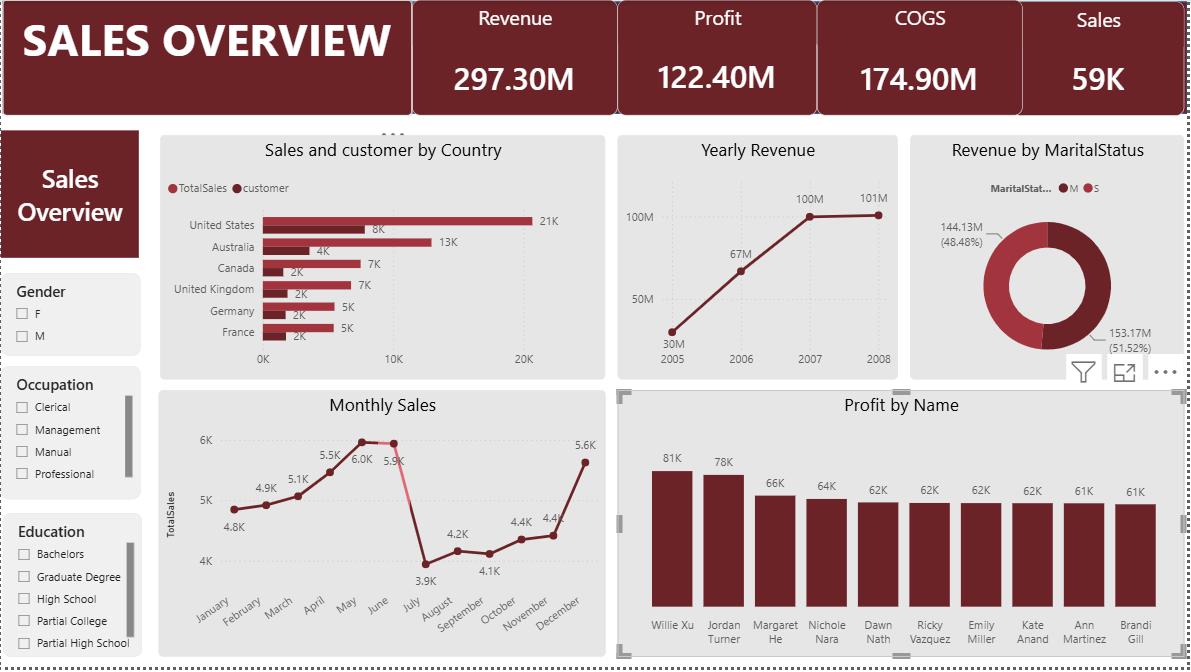

What the dashboard file says about the page in this screenshot:
{"tool":"powerbi","page":{"name":" Sales Analysis","canvas":[1280,720],"ordinal":1},"visuals":[{"type":"shape","box":[1.6,1.6,1279.2,121.4],"z":0},{"type":"cardVisual","title":"Sales","fields":{"Data":["SalesTable.TotalSales"]},"box":[1091.4,1.6,186.2,123.1],"z":1000},{"type":"cardVisual","title":"COGS","fields":{"Data":["SalesTable.TotalCostofGoods"]},"box":[880.9,0,221.8,124.7],"z":2000},{"type":"cardVisual","title":"Revenue","fields":{"Data":["SalesTable.TotalRevenue"]},"box":[443.7,0,221.8,124.7],"z":3000},{"type":"cardVisual","title":"Profit","fields":{"Data":["SalesTable.Profit"]},"box":[665.5,0,215.4,124.7],"z":4000},{"type":"textbox","box":[1.6,0,442,124.7],"z":5000},{"type":"slicer","fields":{"Values":["Customer.Gender"]},"box":[0,294.7,150.6,89.1],"z":6000},{"type":"slicer","fields":{"Values":["Customer.Occupation"]},"box":[0,395.1,150.6,144.1],"z":7000},{"type":"slicer","fields":{"Values":["Customer.Education"]},"box":[1.6,553.8,150.6,155.4],"z":8000},{"type":"actionButton","box":[0,140.9,149,137.6],"z":9000},{"type":"clusteredBarChart","title":"Sales and customer by Country","fields":{"Category":["Territory.SalesTerritoryCountry"],"Y":["SalesTable.TotalSales","SalesTable.customer"]},"box":[171.6,145.7,480.9,263.9],"z":10000},{"type":"lineChart","title":"Monthly Sales","fields":{"Category":["SalesTable.OrderDate.Variation.Date Hierarchy.Month"],"Y":["SalesTable.TotalSales"]},"box":[170,421,482.5,288.2],"z":11000},{"type":"lineChart","title":" Yearly Revenue","fields":{"Category":["SalesTable.OrderDate.Variation.Date Hierarchy.Year","SalesTable.OrderDate.Variation.Date Hierarchy.Quarter","SalesTable.OrderDate.Variation.Date Hierarchy.Month","SalesTable.OrderDate.Variation.Date Hierarchy.Day"],"Y":["SalesTable.TotalRevenue"]},"box":[665.5,145.7,302.8,263.9],"z":12000},{"type":"donutChart","title":"Revenue by MaritalStatus","fields":{"Category":["Customer.MaritalStatus"],"Y":["SalesTable.TotalRevenue"]},"box":[981.3,145.7,296.3,263.9],"z":13000},{"type":"clusteredColumnChart","title":"Profit by Name","fields":{"Category":["Customer.FullName"],"Y":["SalesTable.Profit"]},"box":[665.5,421,612.1,288.2],"z":14000}]}

Visuals, with their boxes in screenshot pixels (x1, y1, x2, y2), scaled from the page's 1280x720 canvas onto the 1191x672 screenshot:
shape: <box>1,1,1190,115</box>
"Sales" cardVisual: <box>1016,1,1189,116</box>
"COGS" cardVisual: <box>820,0,1026,116</box>
"Revenue" cardVisual: <box>413,0,619,116</box>
"Profit" cardVisual: <box>619,0,820,116</box>
textbox: <box>1,0,413,116</box>
slicer - Customer.Gender: <box>0,275,140,358</box>
slicer - Customer.Occupation: <box>0,369,140,503</box>
slicer - Customer.Education: <box>1,517,142,662</box>
actionButton: <box>0,132,139,260</box>
"Sales and customer by Country" clusteredBarChart: <box>160,136,607,382</box>
"Monthly Sales" lineChart: <box>158,393,607,662</box>
" Yearly Revenue" lineChart: <box>619,136,901,382</box>
"Revenue by MaritalStatus" donutChart: <box>913,136,1189,382</box>
"Profit by Name" clusteredColumnChart: <box>619,393,1189,662</box>
